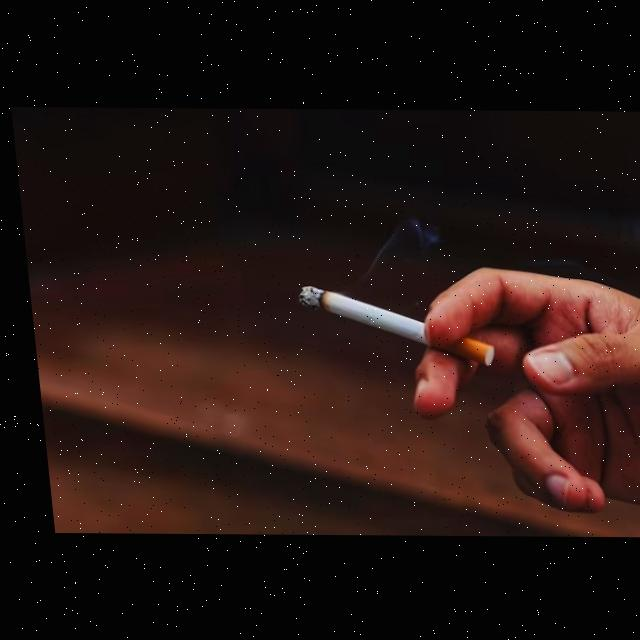cigarette: (290, 286, 489, 366)
